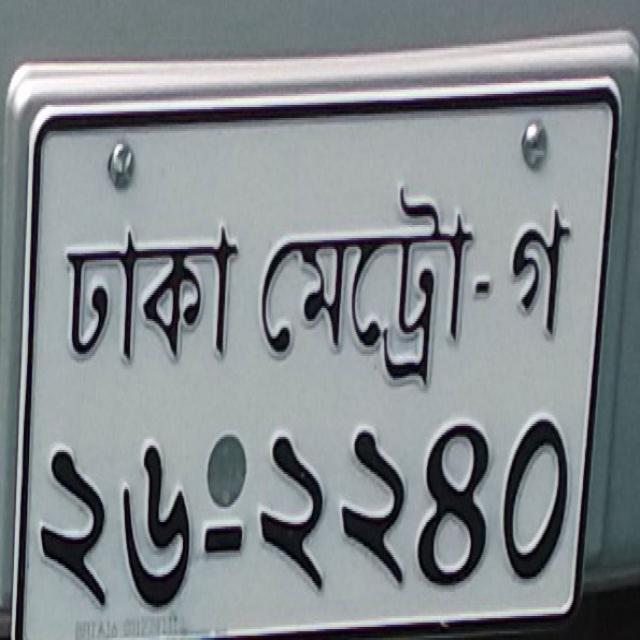numberplate: (3, 34, 631, 636)
